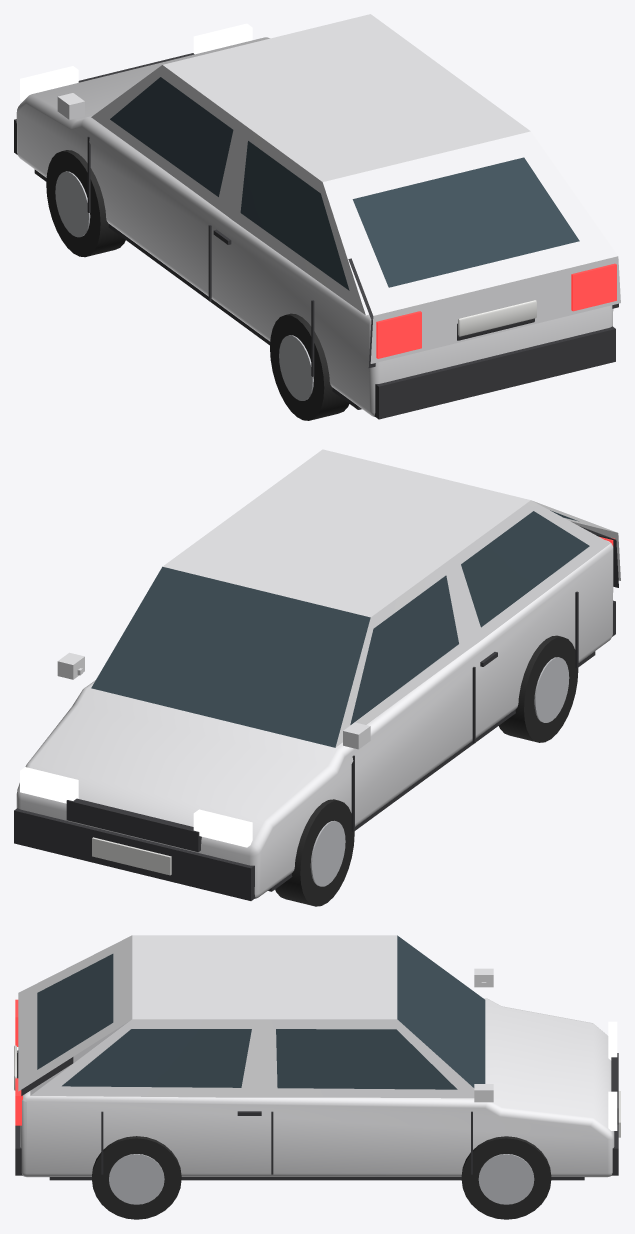
The model's file is polo.glb.
3 views of the same model, one above another, from view 1: azimuth 30°, elevation 25°; view 2: azimuth 150°, elevation 25°; view 3: azimuth 270°, elevation 25° (orthographic). The views are drawn at different scales.
Parts seen in each view (by area): view 1: Polo_Karosserie, Polo_Heckklappe; view 2: Polo_Karosserie, Polo_Heckklappe; view 3: Polo_Karosserie, Polo_Heckklappe.
Part boxes in pixels (x1,y1,x2,y2): Polo_Karosserie: (14, 14, 616, 420); Polo_Heckklappe: (322, 131, 620, 367); Polo_Karosserie: (14, 449, 615, 906); Polo_Heckklappe: (533, 501, 620, 587); Polo_Karosserie: (15, 935, 620, 1219); Polo_Heckklappe: (14, 935, 132, 1095).
Size of the model in its own units: 1.92 by 1.41 by 4.06.
